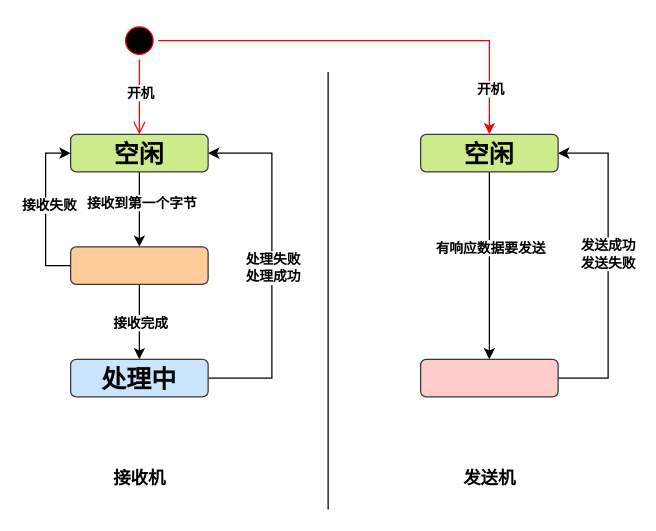
The diagram is 656 pixels wide and 531 high, and some of its shapes have lost their labels. Each missing label, with the box of its shape:
发送中: (419, 358, 558, 397)
接收中: (69, 246, 208, 284)
